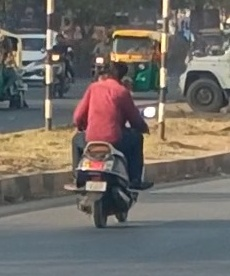BikeWithRider: (61, 56, 154, 229), (42, 32, 77, 100)
NoHelmet: (96, 60, 118, 82), (111, 60, 130, 81), (53, 32, 68, 44)
